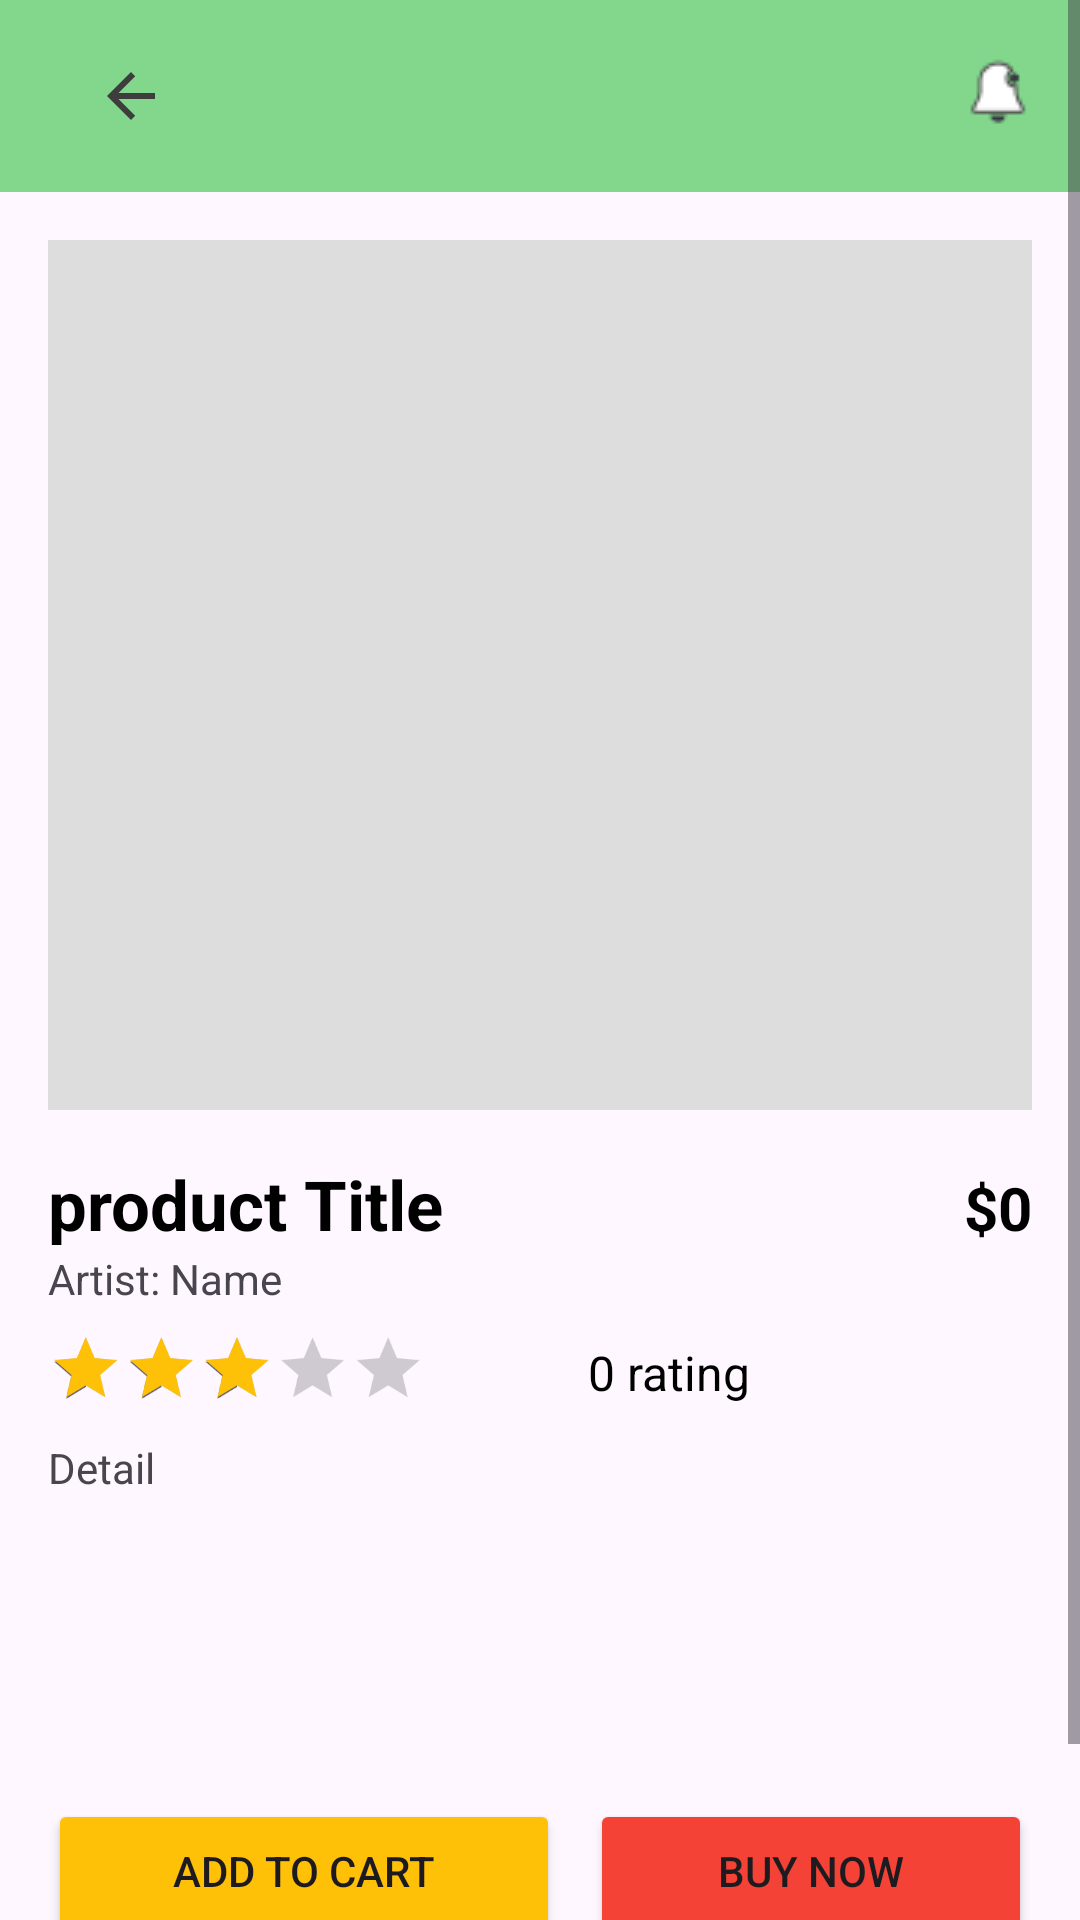

Icon click points for this 1080px x 1920px phone screenshot, format (x=x, y=y):
arrow back: (x=131, y=96)
notif: (x=998, y=92)
